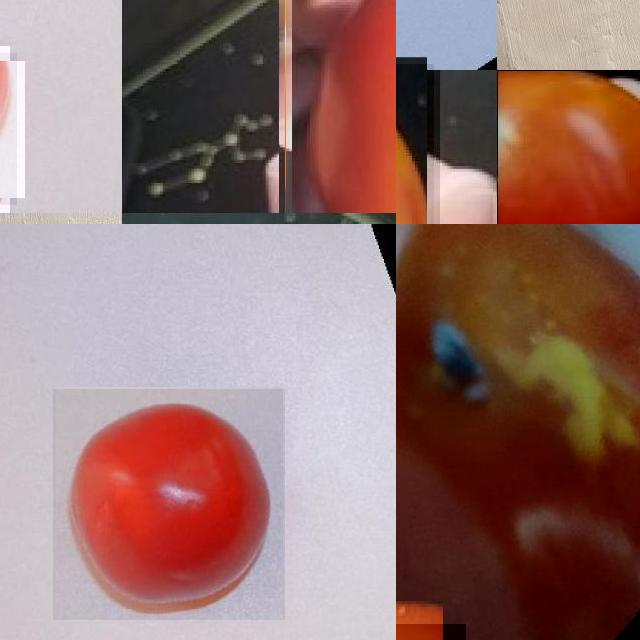1: (396, 224, 640, 640)
Fresh Tomato: (53, 389, 285, 620), (285, 0, 396, 213)
Rotten Tomato: (497, 70, 640, 224)
